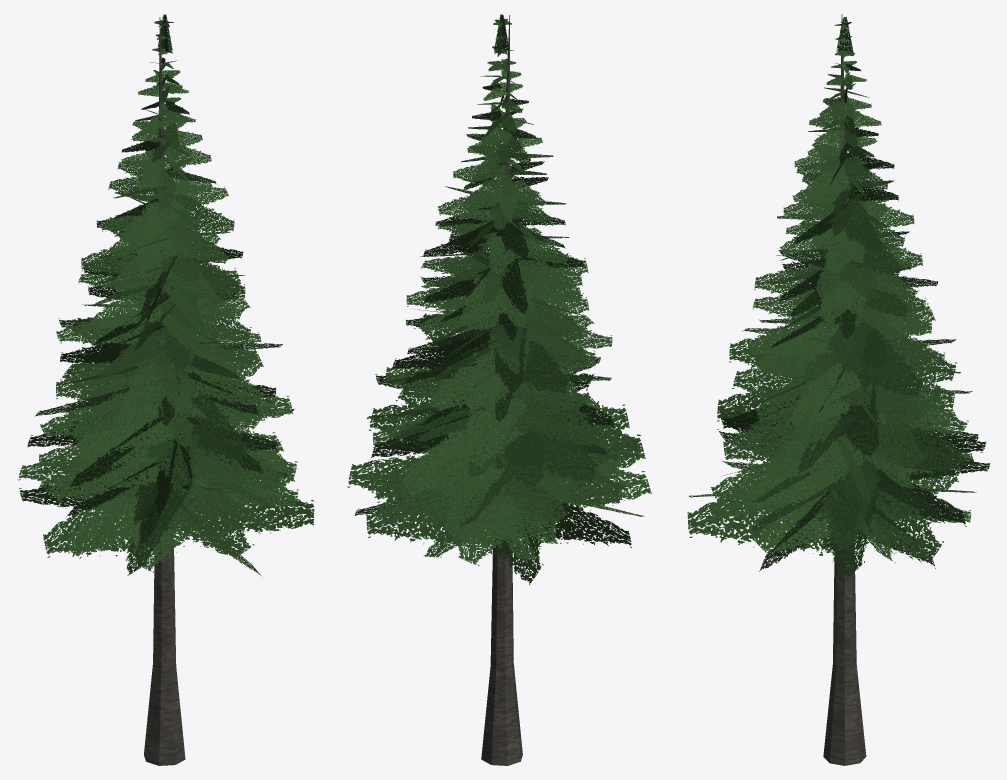
The model's file is SM_fir_01.fbx.
3 renders of one model, left to right at view 1: azimuth 30°, elevation 25°; view 2: azimuth 150°, elevation 25°; view 3: azimuth 270°, elevation 25°, orthographic.
Visible parts, largest first — view 1: SM_fir_01; view 2: SM_fir_01; view 3: SM_fir_01.
Boxes of the visible parts, bbox=[...] form: SM_fir_01: bbox=[17, 14, 314, 765]; SM_fir_01: bbox=[347, 14, 651, 765]; SM_fir_01: bbox=[687, 14, 990, 765].
Bounding box in the file's own units: 11.14 × 30 × 11.27.
